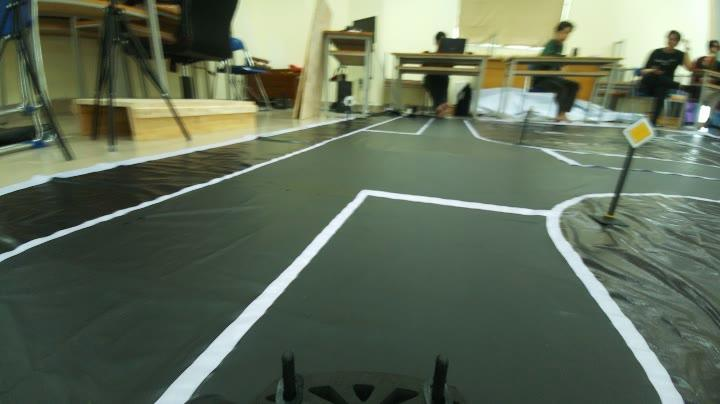priority: (618, 115, 662, 155)
